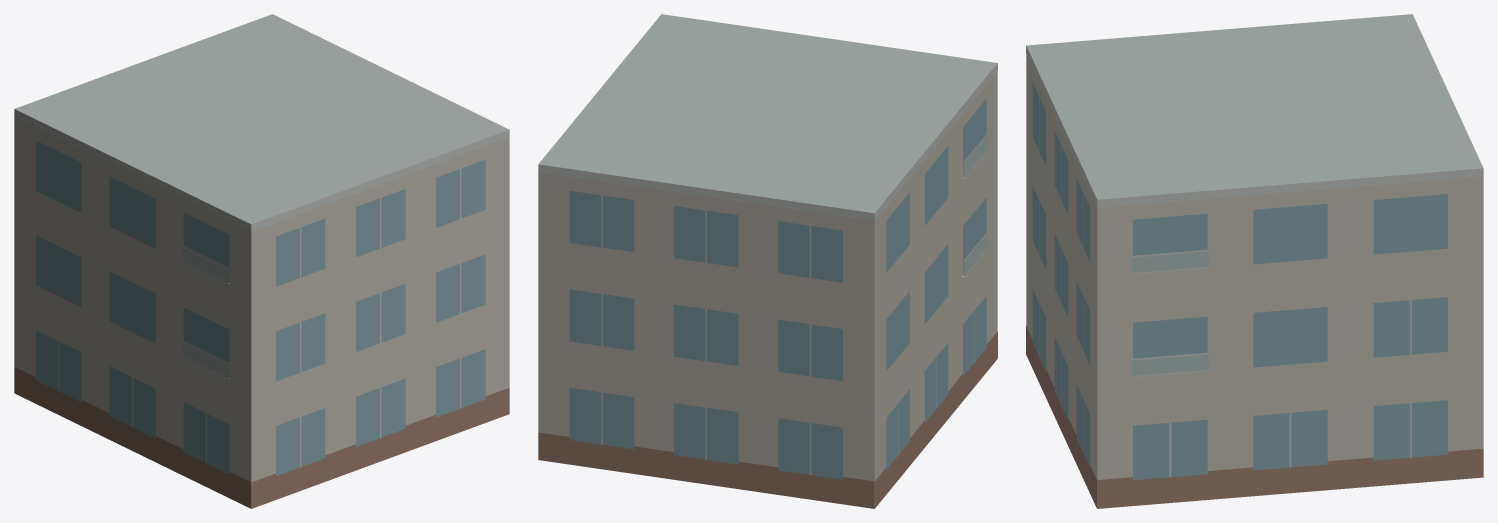
File: survey-upis-32708923.glb
The picture shows the model from 3 angles, left to right: view 1: azimuth 30°, elevation 25°; view 2: azimuth 150°, elevation 25°; view 3: azimuth 270°, elevation 25°; orthographic projection. The views are drawn at different scales.
Parts seen in each view (by area): view 1: survey-upis-32708923.tmp; view 2: survey-upis-32708923.tmp; view 3: survey-upis-32708923.tmp.
Part boxes in pixels (x1,y1,x2,y2): survey-upis-32708923.tmp: (14,14,509,508); survey-upis-32708923.tmp: (538,14,997,508); survey-upis-32708923.tmp: (1026,14,1483,508).
Bounding box in the file's own units: 11.8 × 9.15 × 12.28.
